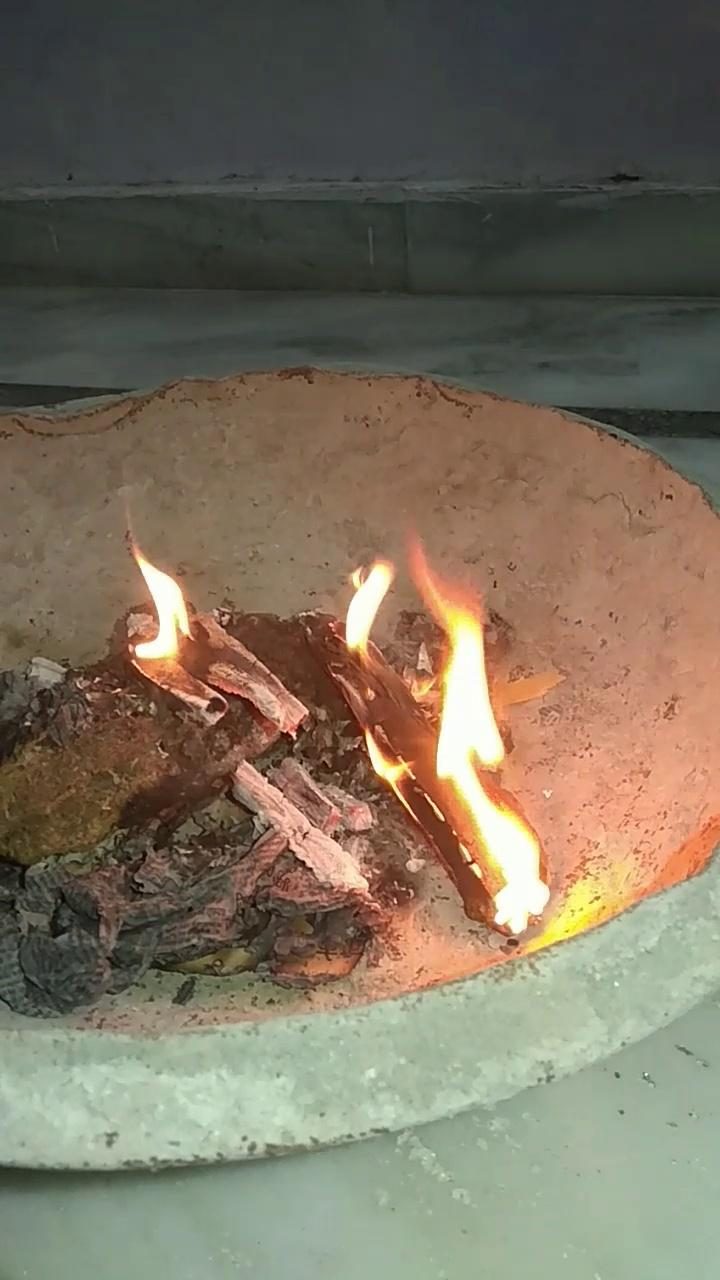fire: (112, 480, 560, 947)
